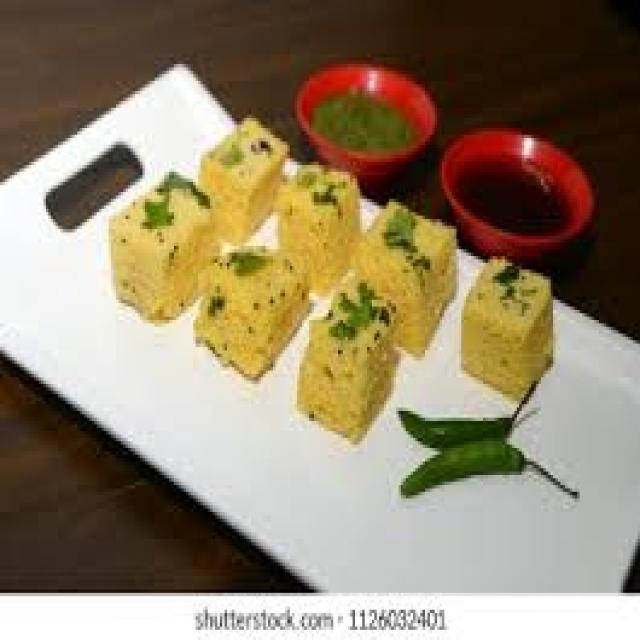DHOKLA: (111, 172, 217, 320), (297, 280, 396, 438), (353, 202, 454, 354), (196, 249, 307, 377), (461, 259, 551, 397), (198, 118, 287, 239), (280, 165, 360, 290)
